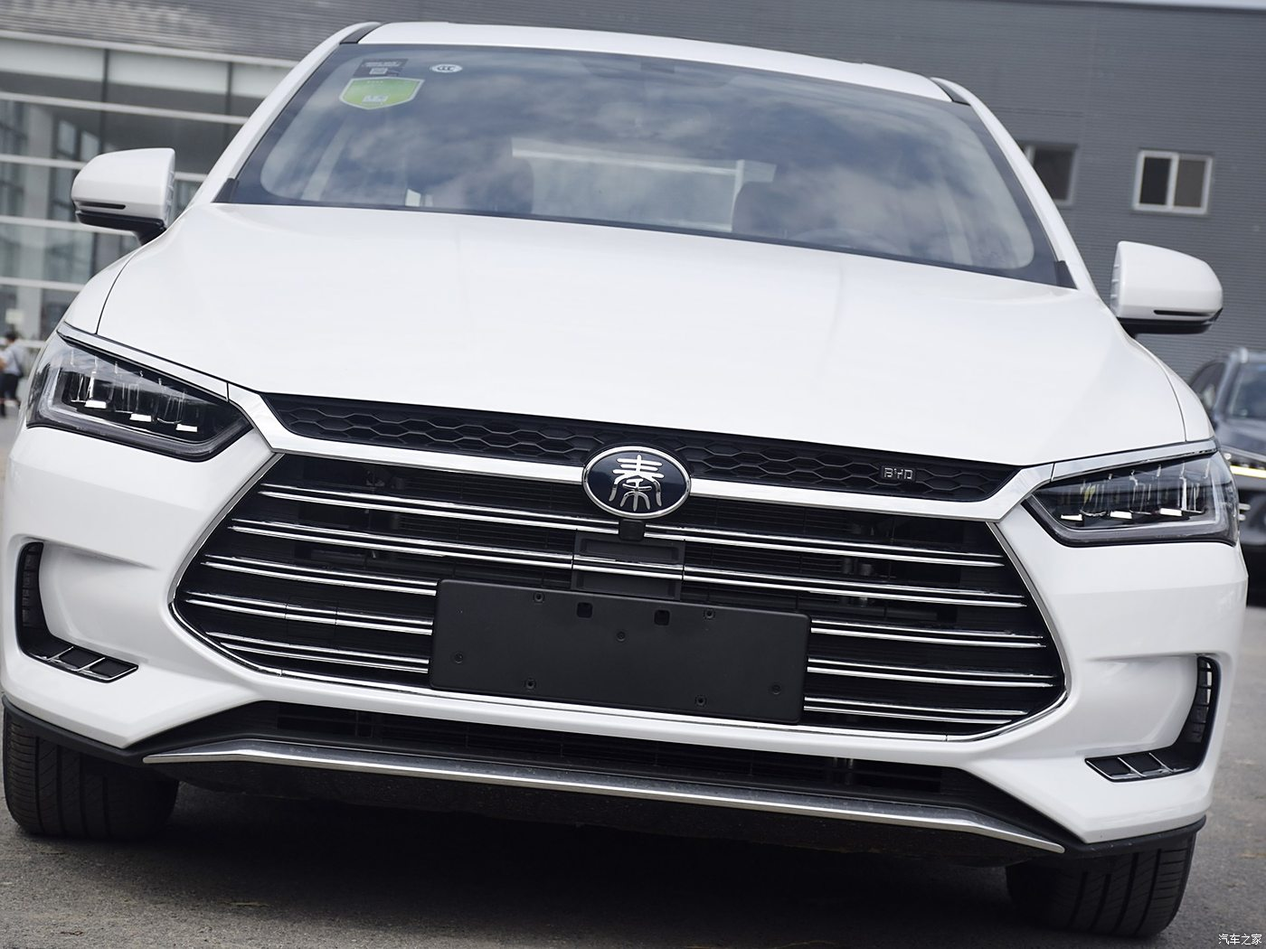BYD Qin: (583, 446, 691, 519)
